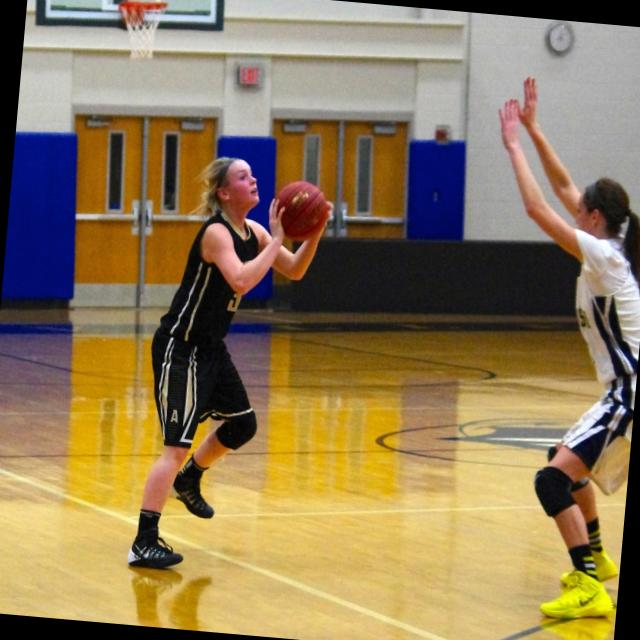Ball: (270, 182, 329, 242)
